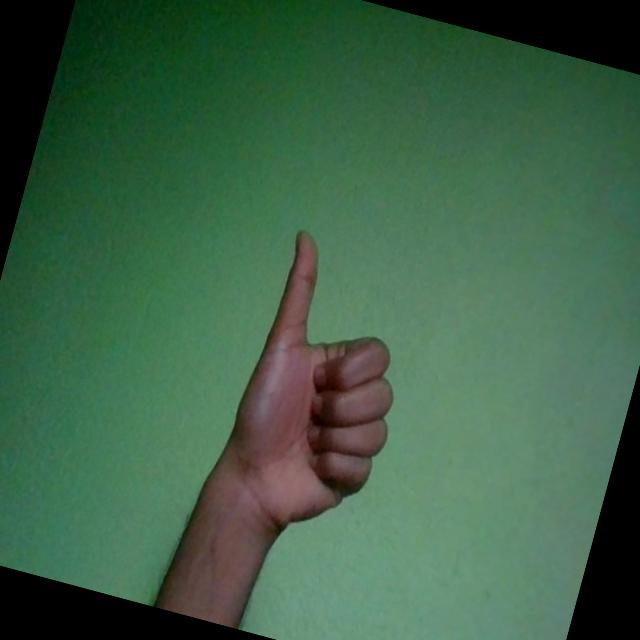Good Job: (208, 226, 432, 557)
